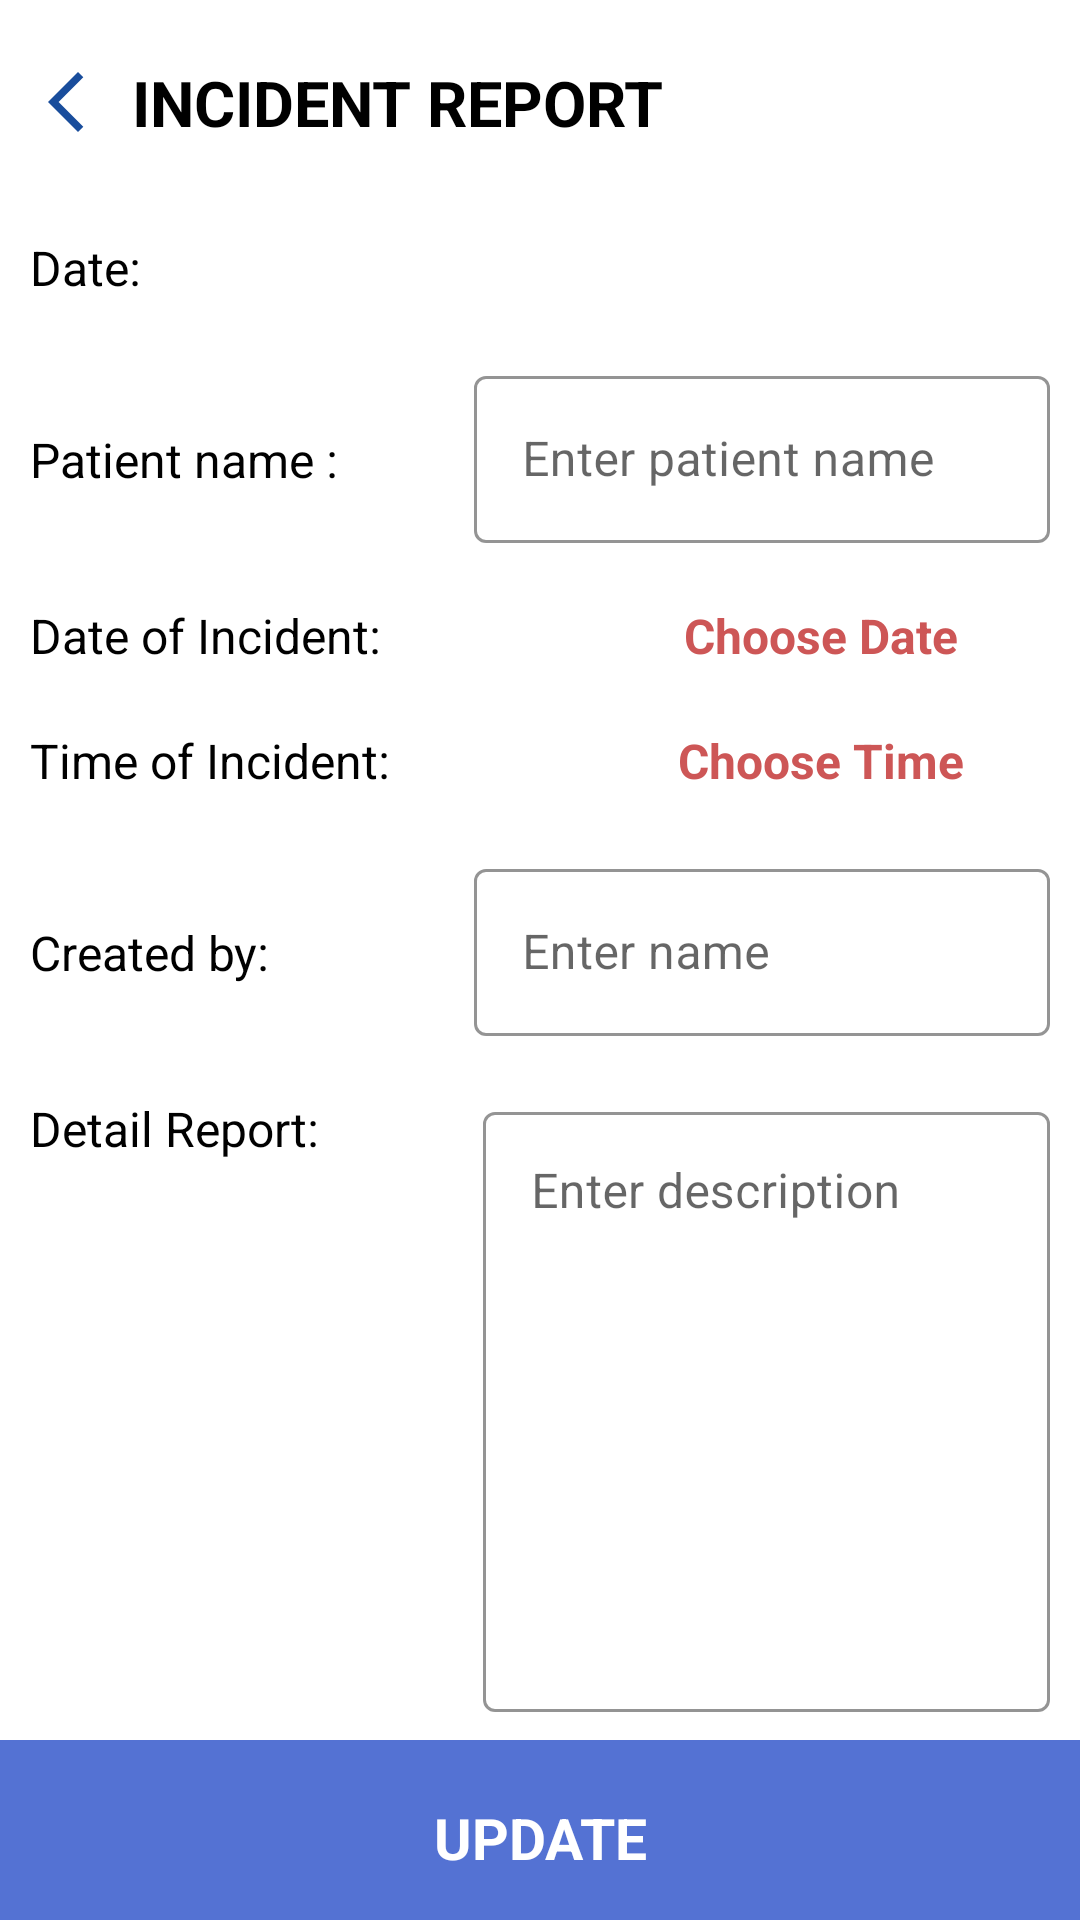

Screen size 1080px×1920px. Icon name, then its center in pixels as point (x, y):
arrow back: point (65, 102)
